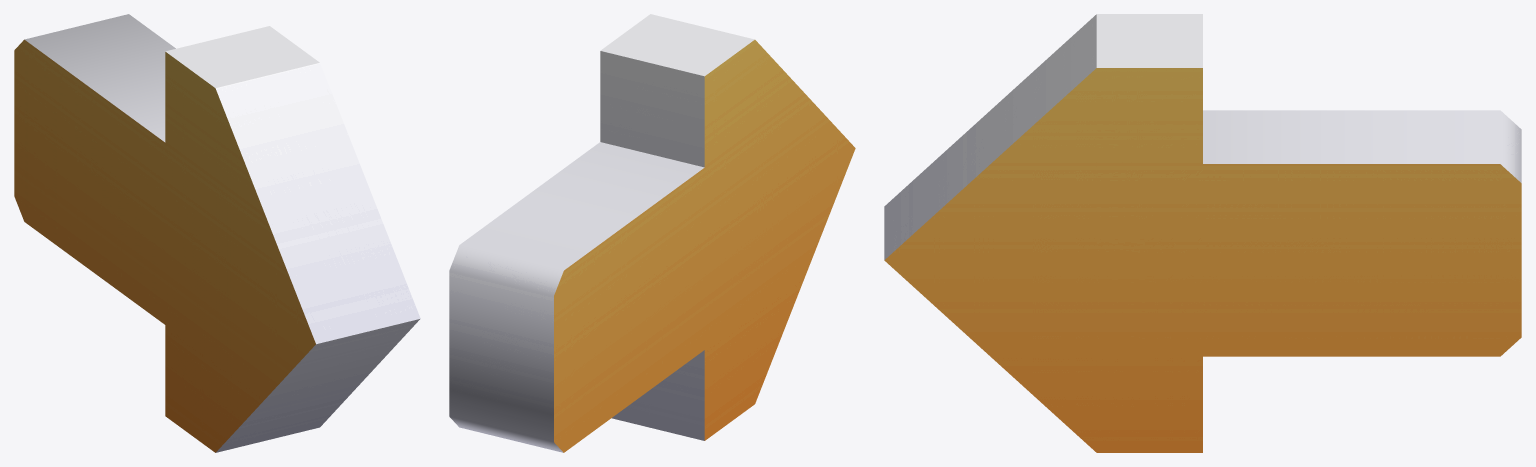
The model's file is arrow-standing.glb.
3 renders of one model, left to right at view 1: azimuth 30°, elevation 25°; view 2: azimuth 150°, elevation 25°; view 3: azimuth 270°, elevation 25°, orthographic. The views are drawn at different scales.
Parts seen in each view (by area): view 1: arrow-standing; view 2: arrow-standing; view 3: arrow-standing.
Boxes of the visible parts, bbox=[...] form: arrow-standing: bbox=[14, 14, 420, 452]; arrow-standing: bbox=[449, 14, 855, 452]; arrow-standing: bbox=[884, 14, 1521, 452].
Bounding box in the file's own units: 2.04 × 6.8 × 10.2.
Materials: 1 (1 with a texture image).
